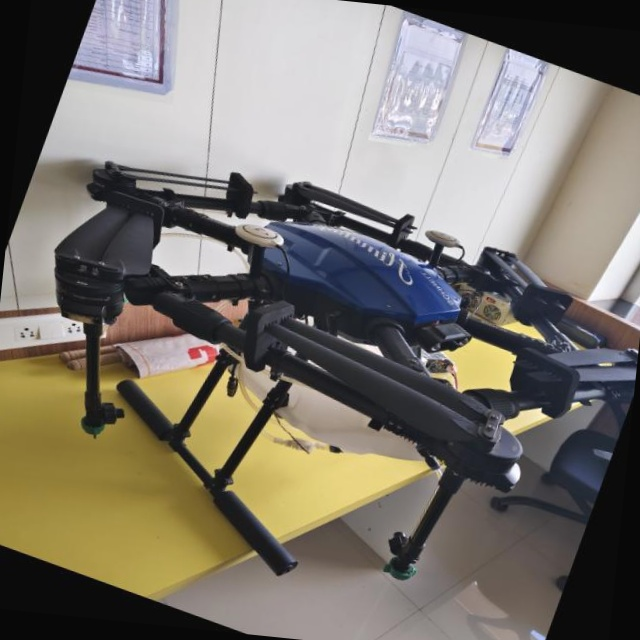agriculturedrone: (0, 89, 640, 640)
